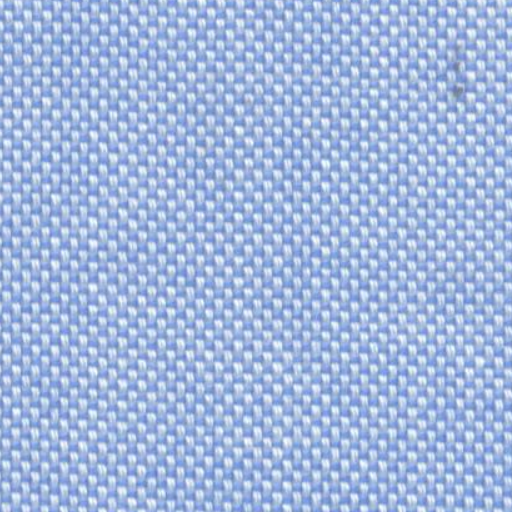WuZi: (428, 30, 488, 111)
